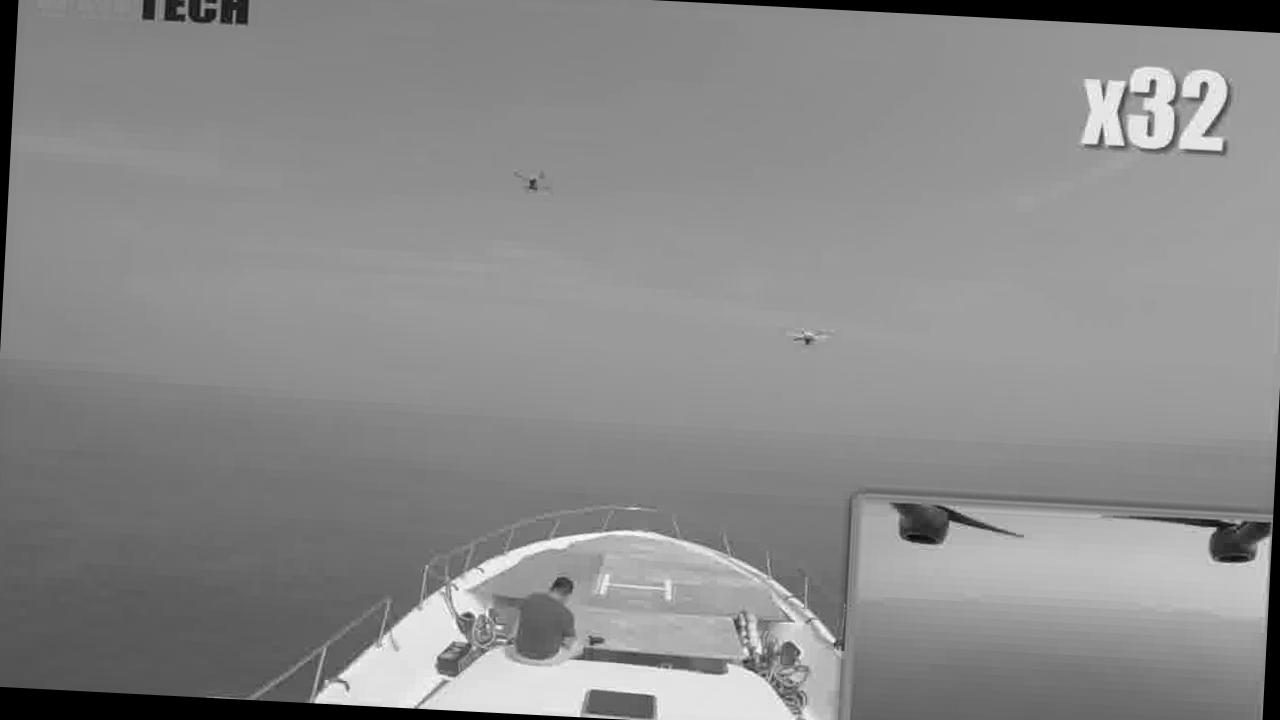drone: (484, 153, 566, 209), (778, 316, 838, 362)
